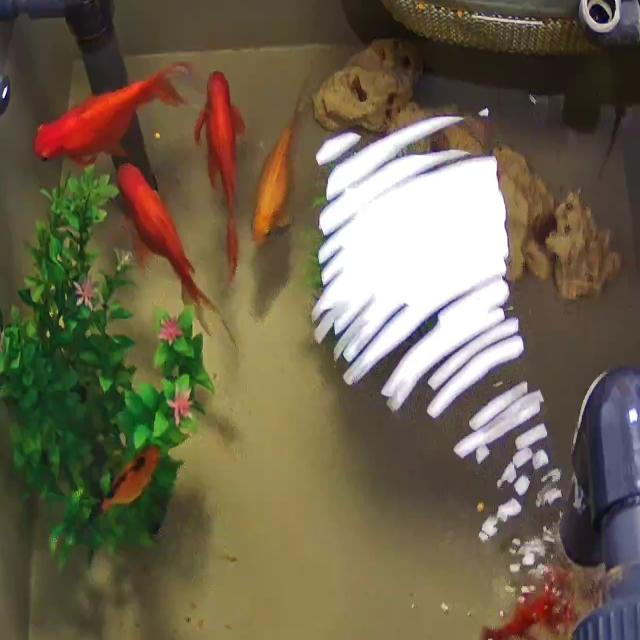fish: (113, 160, 226, 331), (33, 58, 197, 170), (245, 78, 324, 249), (195, 63, 247, 280), (89, 431, 173, 534)
